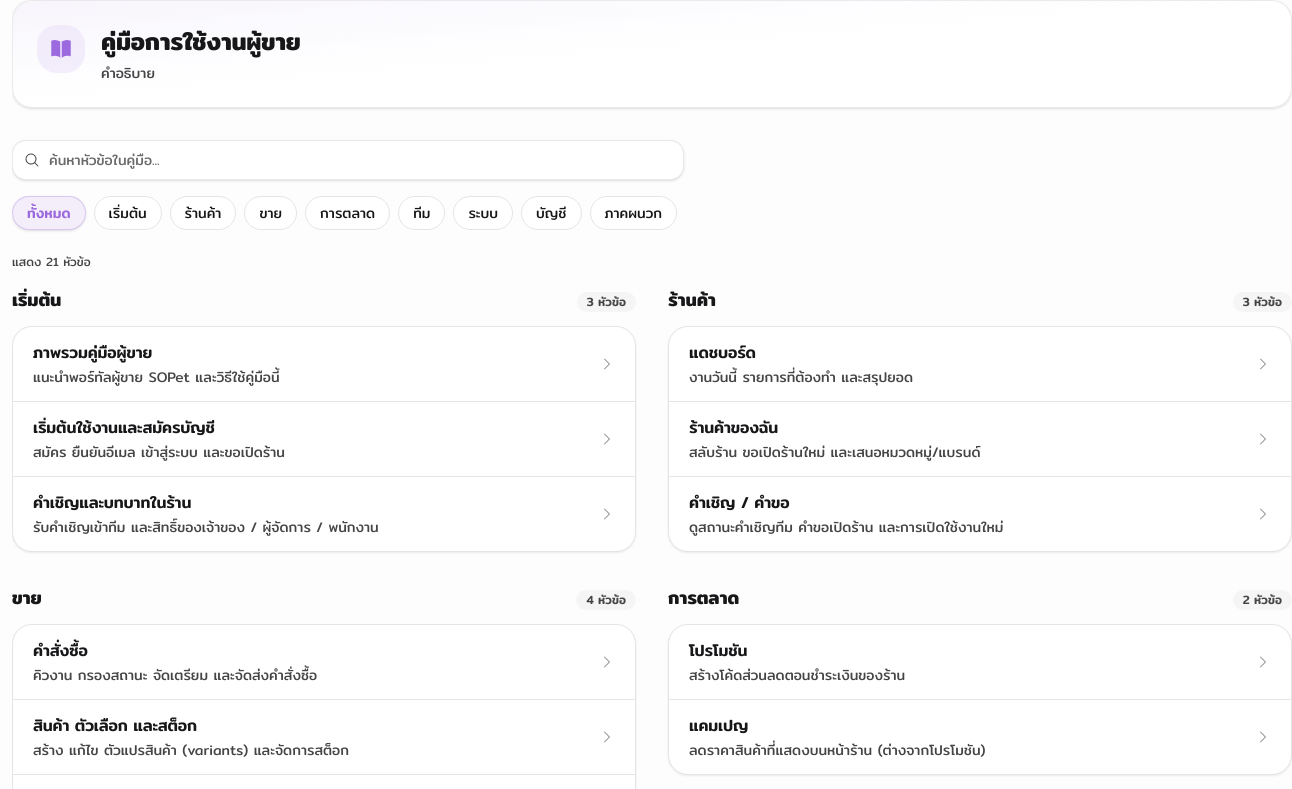
Test: HelpIndex › lists sections and filters by search
Check: the heading "ขาย" is shown, box top-left (12, 584), bottom-right (42, 612)
In the field labelled "ค้นหาหัวข้อในคู่มือ": (348, 160) top-left (12, 140), bottom-right (684, 180), type "รับเงิน"
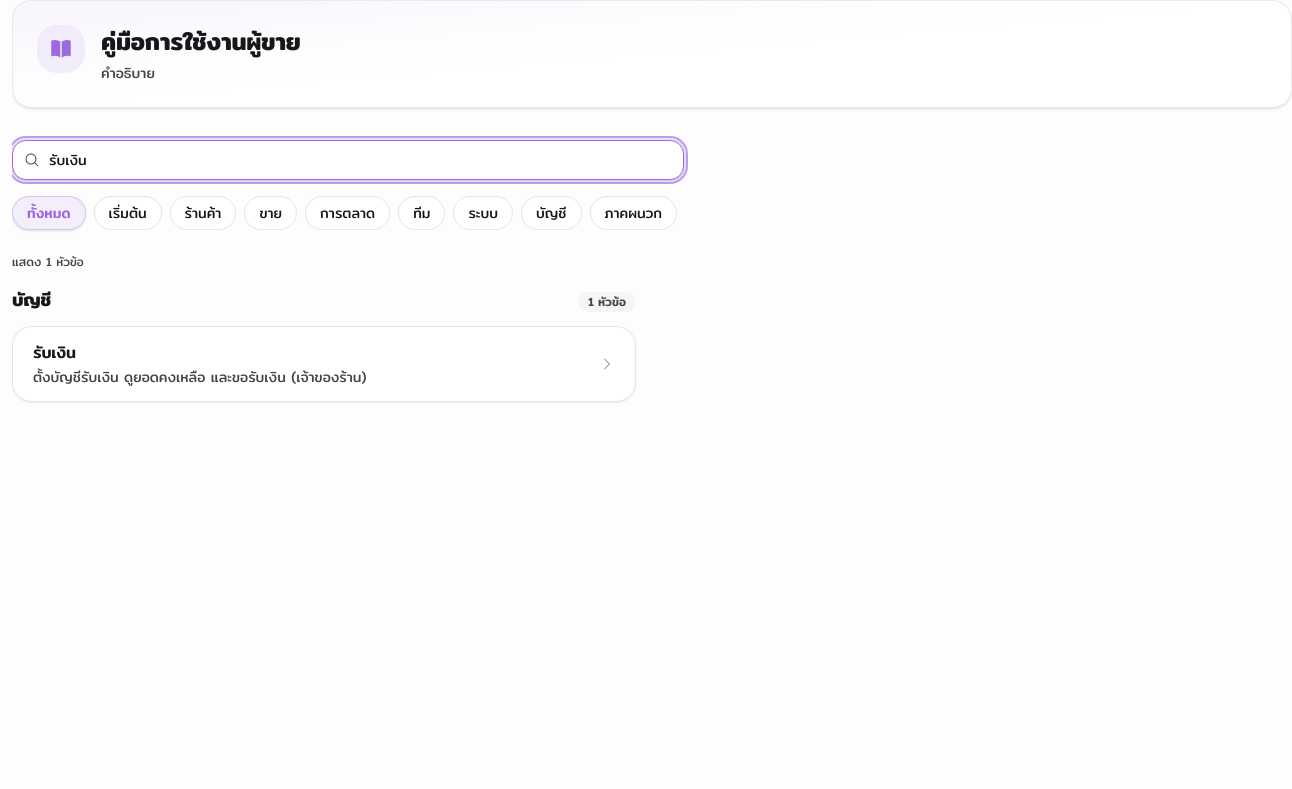
Check: the link "รับเงิน" is shown, box top-left (13, 327), bottom-right (635, 401)
Check: the link "คำสั่งซื้อ คิวงาน กรองสถานะ จัดเตรียม และจัดส่งคำสั่งซื้อ" is gone
